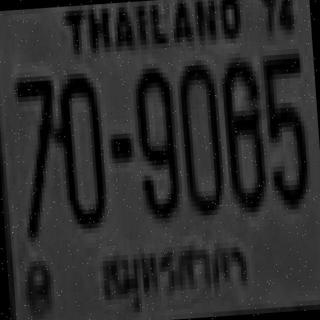N00: (52, 67, 105, 225), (176, 59, 223, 212)
N05: (259, 48, 309, 206)
N06: (219, 54, 266, 206)
N07: (12, 68, 62, 235), (14, 70, 58, 198)
N09: (131, 62, 178, 220)
P58: (92, 225, 258, 320)
